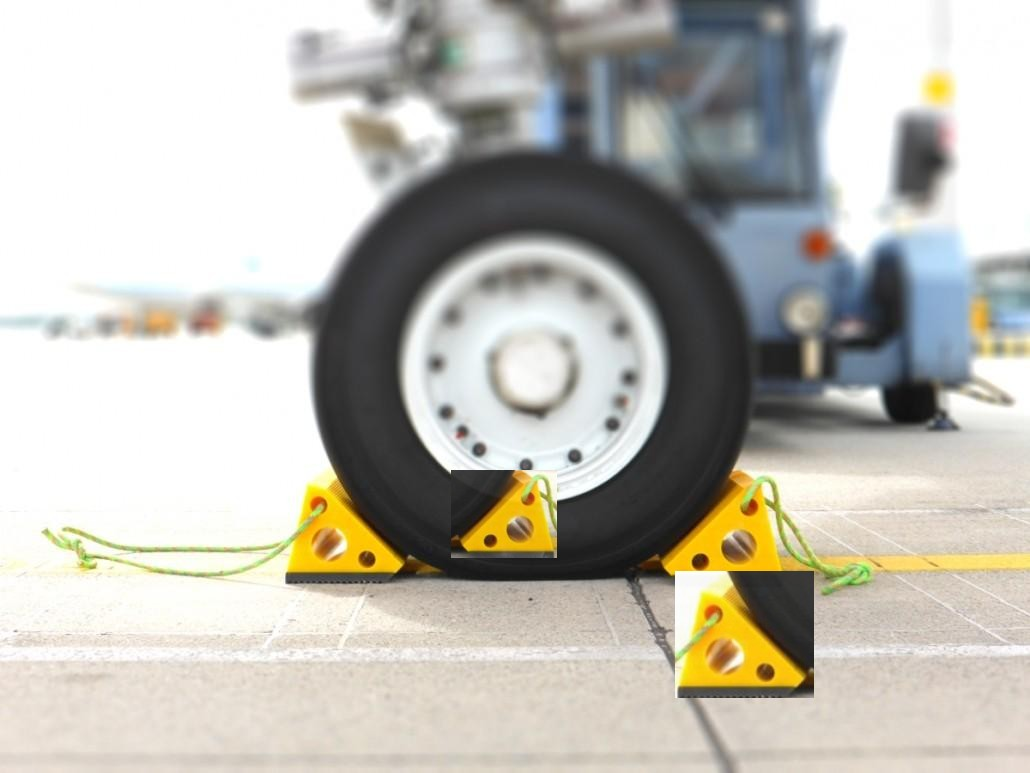chock: (675, 571, 814, 698), (650, 470, 787, 584), (283, 465, 413, 583), (451, 470, 557, 558)
wheel: (316, 154, 745, 579), (883, 381, 938, 423)
